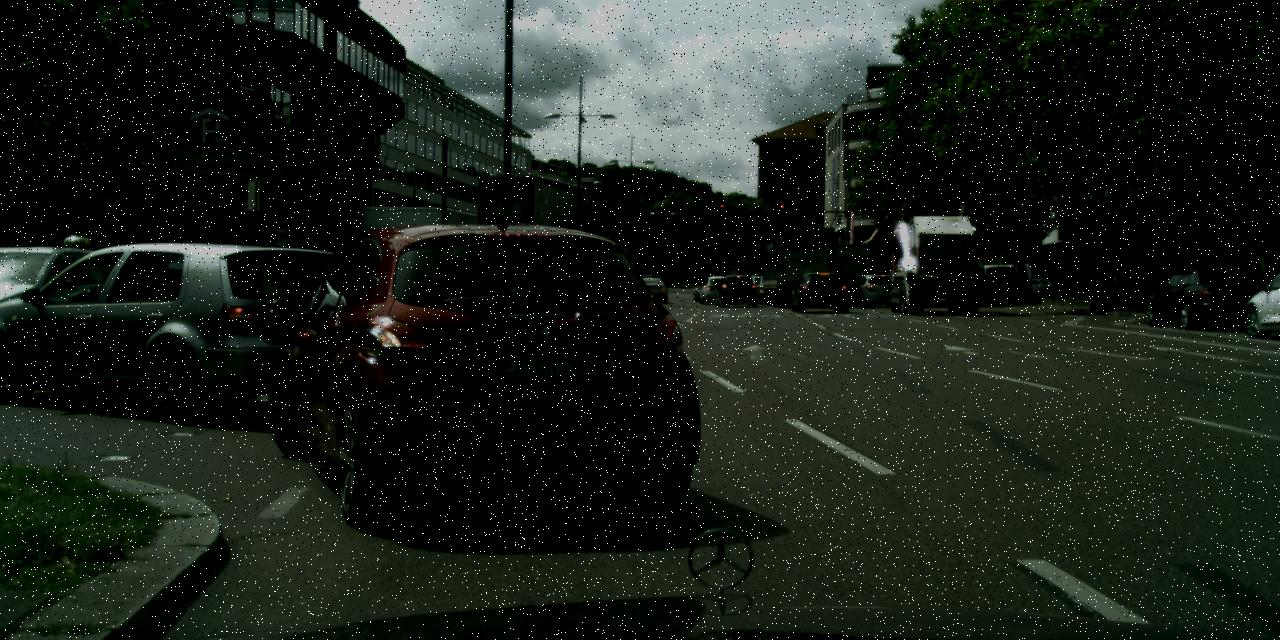ped: (1009, 268, 1020, 296)
